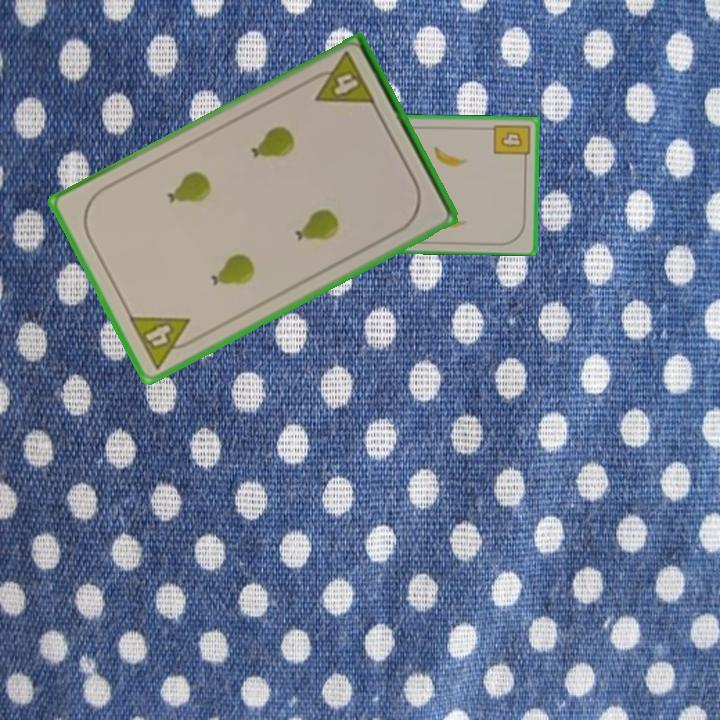4b: (490, 120, 532, 165)
4p: (125, 312, 202, 372), (303, 48, 378, 108)
